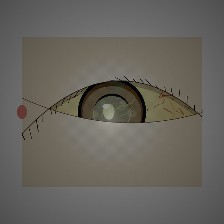corneal_ulcer: (81, 89, 143, 139)
